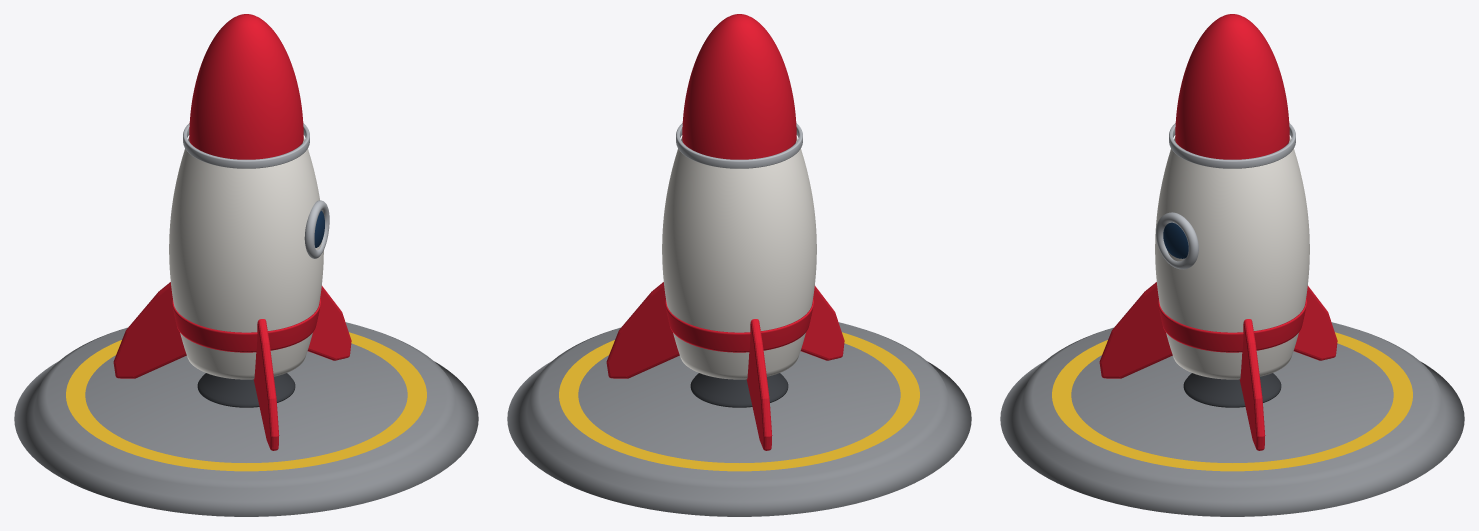
Rendered from rocket.glb.
The picture shows the model from 3 angles, left to right: view 1: azimuth 30°, elevation 25°; view 2: azimuth 150°, elevation 25°; view 3: azimuth 270°, elevation 25°; orthographic projection.
Parts seen in each view (by area): view 1: Launch Pad, Hull, Nose Cone, Pad Stripe, Fin 2, Red Band, Engine Bell, Fin 3, Fin 1, Seam Ring, Porthole Rim; view 2: Launch Pad, Hull, Nose Cone, Pad Stripe, Fin 1, Red Band, Engine Bell, Fin 2, Fin 3, Seam Ring; view 3: Launch Pad, Hull, Nose Cone, Pad Stripe, Fin 3, Red Band, Engine Bell, Fin 1, Fin 2, Seam Ring, Porthole Rim, Porthole Glass.
Part boxes in pixels (<box>): Launch Pad: <box>14,322,478,516</box>; Hull: <box>169,137,323,379</box>; Nose Cone: <box>189,14,303,159</box>; Pad Stripe: <box>66,332,426,471</box>; Fin 2: <box>113,282,186,378</box>; Red Band: <box>172,298,320,352</box>; Engine Bell: <box>197,373,295,407</box>; Fin 3: <box>253,319,279,450</box>; Fin 1: <box>307,286,351,360</box>; Seam Ring: <box>183,123,309,168</box>; Porthole Rim: <box>304,200,329,258</box>; Launch Pad: <box>507,322,971,516</box>; Hull: <box>662,137,816,379</box>; Nose Cone: <box>682,14,796,159</box>; Pad Stripe: <box>559,332,919,471</box>; Fin 1: <box>606,282,679,378</box>; Red Band: <box>665,298,813,352</box>; Engine Bell: <box>690,373,788,407</box>; Fin 2: <box>746,319,772,450</box>; Fin 3: <box>800,286,844,360</box>; Seam Ring: <box>676,123,802,168</box>; Launch Pad: <box>1000,322,1464,516</box>; Hull: <box>1155,137,1309,379</box>; Nose Cone: <box>1175,14,1289,159</box>; Pad Stripe: <box>1052,332,1412,471</box>; Fin 3: <box>1099,282,1172,378</box>; Red Band: <box>1158,298,1306,352</box>; Engine Bell: <box>1183,373,1281,407</box>; Fin 1: <box>1239,319,1265,450</box>; Fin 2: <box>1293,286,1337,360</box>; Seam Ring: <box>1169,123,1295,168</box>; Porthole Rim: <box>1156,212,1198,269</box>; Porthole Glass: <box>1163,222,1188,258</box>.
Bounding box in the file's own units: 3.6 × 3.45 × 3.6.
